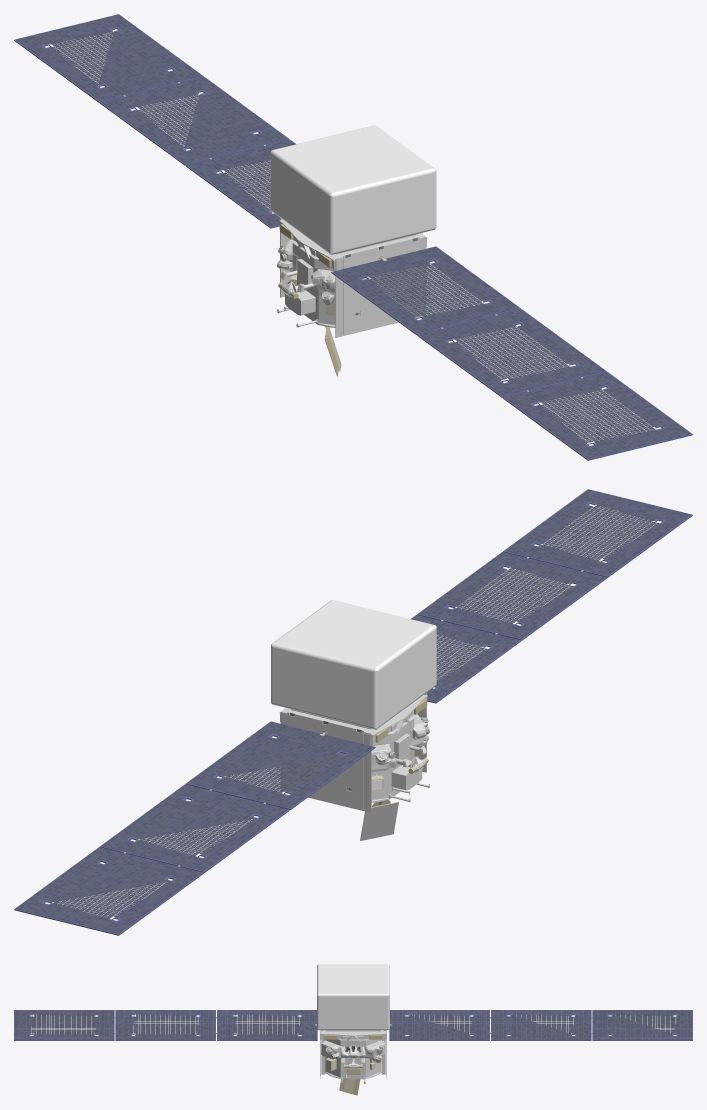
The model's file is fermi.glb.
3 views of the same model, one above another, from view 1: azimuth 30°, elevation 25°; view 2: azimuth 150°, elevation 25°; view 3: azimuth 270°, elevation 25° (orthographic). The views are drawn at different scales.
Parts seen in each view (by area): view 1: Layer_1, Layer_2, Layer_0; view 2: Layer_1, Layer_2, Layer_0; view 3: Layer_1, Layer_2, Layer_0.
Boxes of the visible parts, box(x1,y1,x2,y2) form: Layer_1: box(14, 14, 692, 460); Layer_2: box(270, 125, 436, 254); Layer_0: box(123, 82, 582, 391); Layer_1: box(14, 489, 692, 935); Layer_2: box(271, 600, 436, 729); Layer_0: box(124, 557, 583, 866); Layer_1: box(14, 1010, 692, 1040); Layer_2: box(317, 964, 389, 1030); Layer_0: box(114, 1017, 592, 1095).
Bounding box in the file's own units: 8.55 × 12.1 × 62.31.
